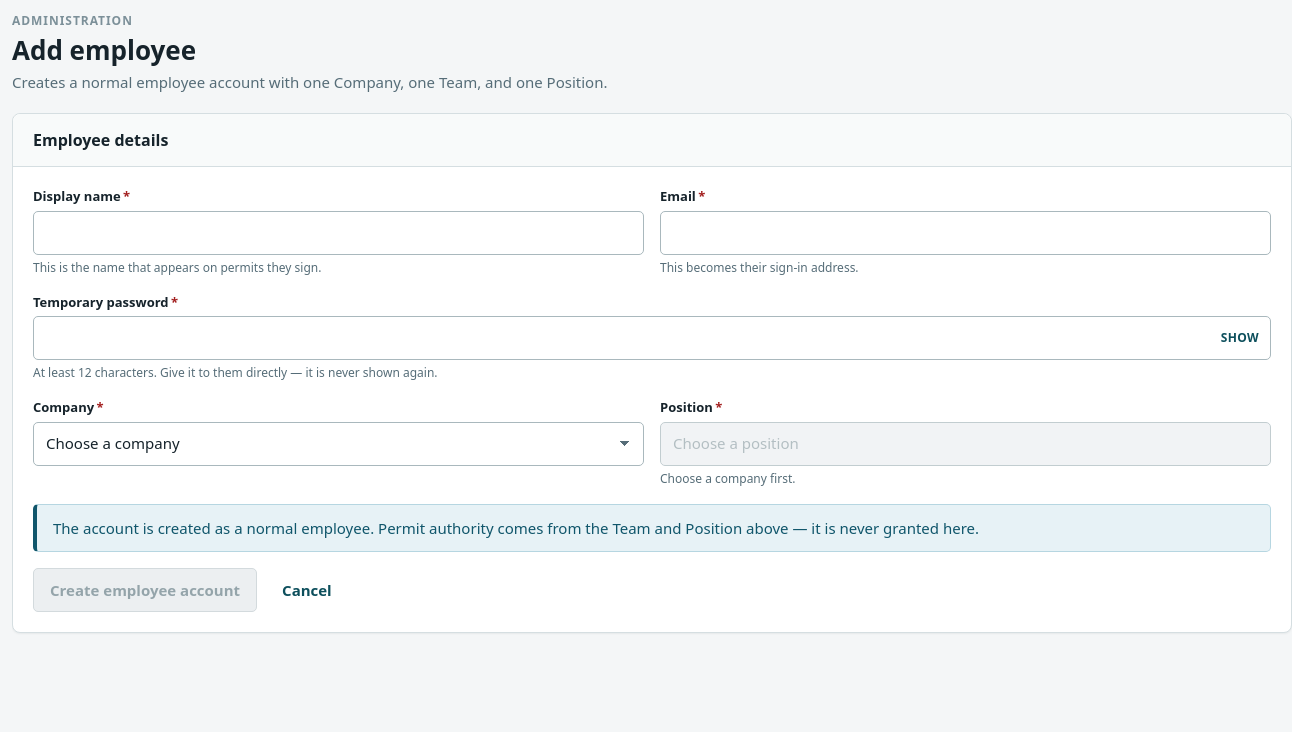
Test: the temporary password › is refused below the backend minimum, before anything is sent
In the field labelled "Display name*": (338, 232) [33,210,644,254], type "Ayesha Khan"
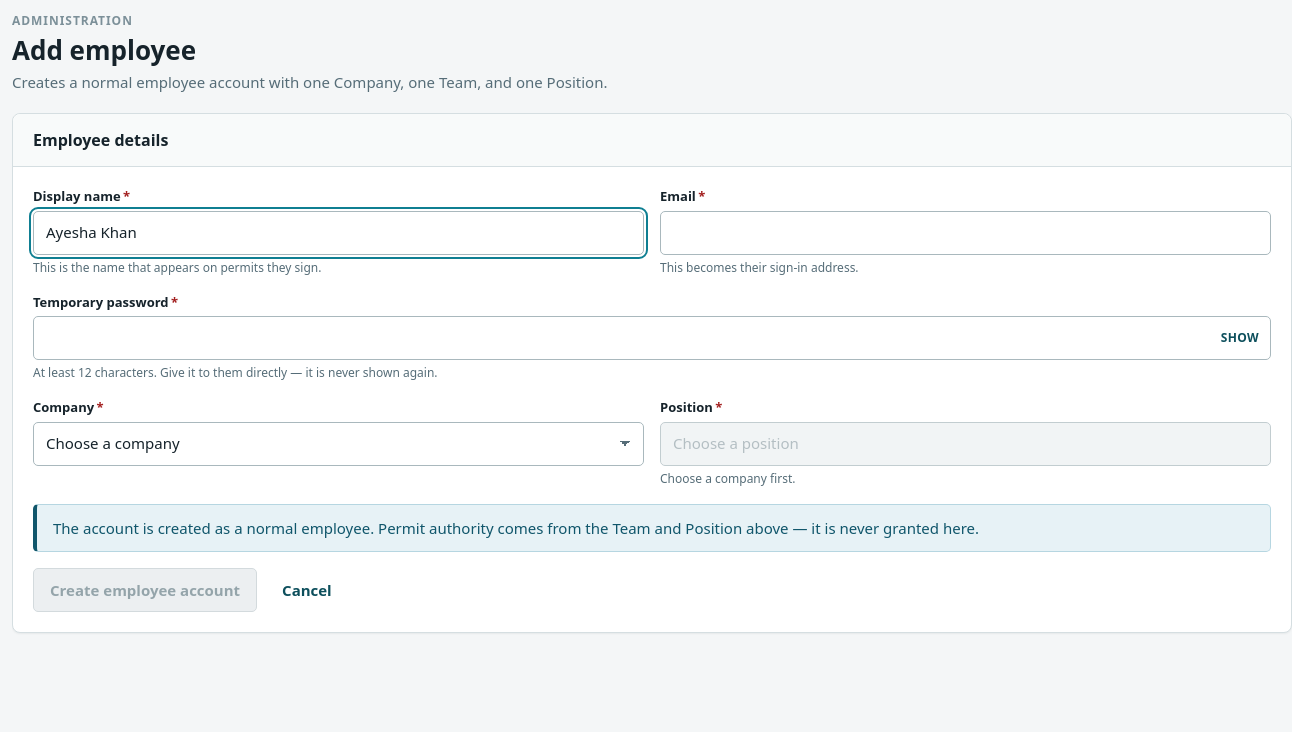
In the field labelled "Email*": (966, 232) [660,210,1271,254], type "ayesha@example.com"
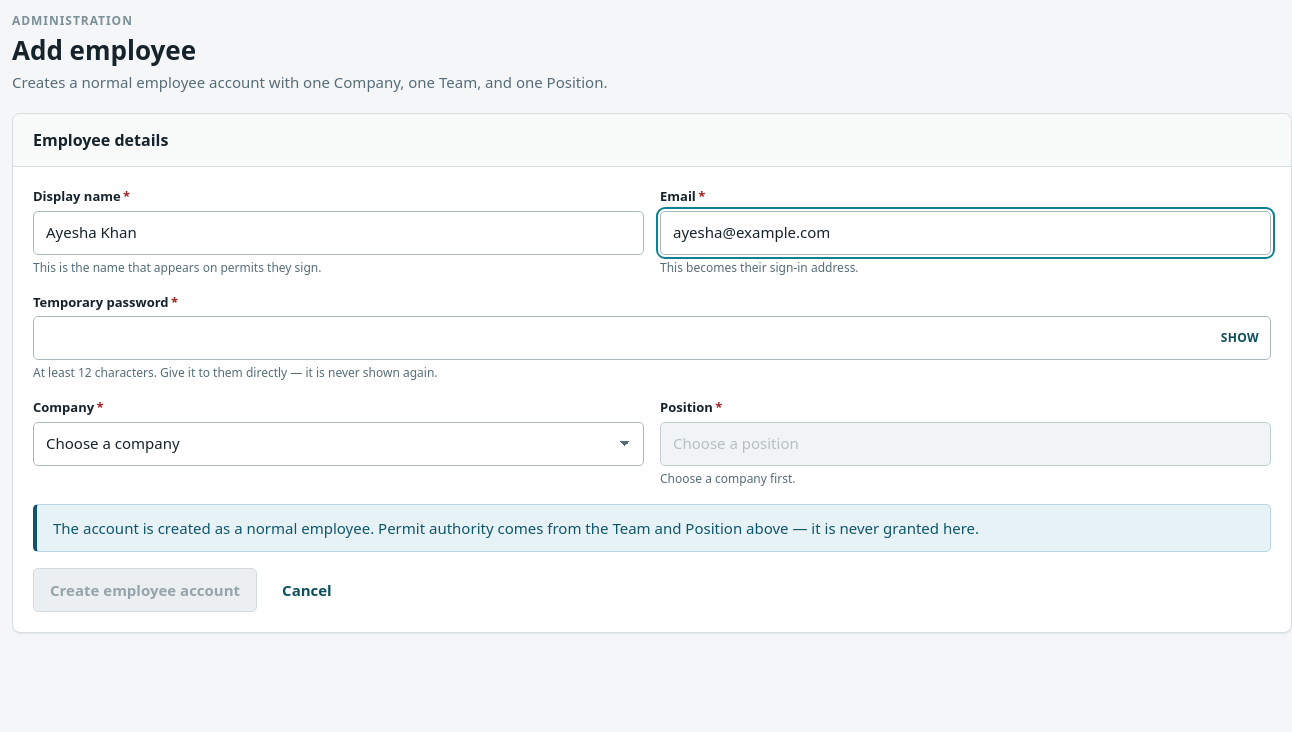
In the password field labelled "Temporary password*": (652, 338) [33,316,1271,360], type "short"
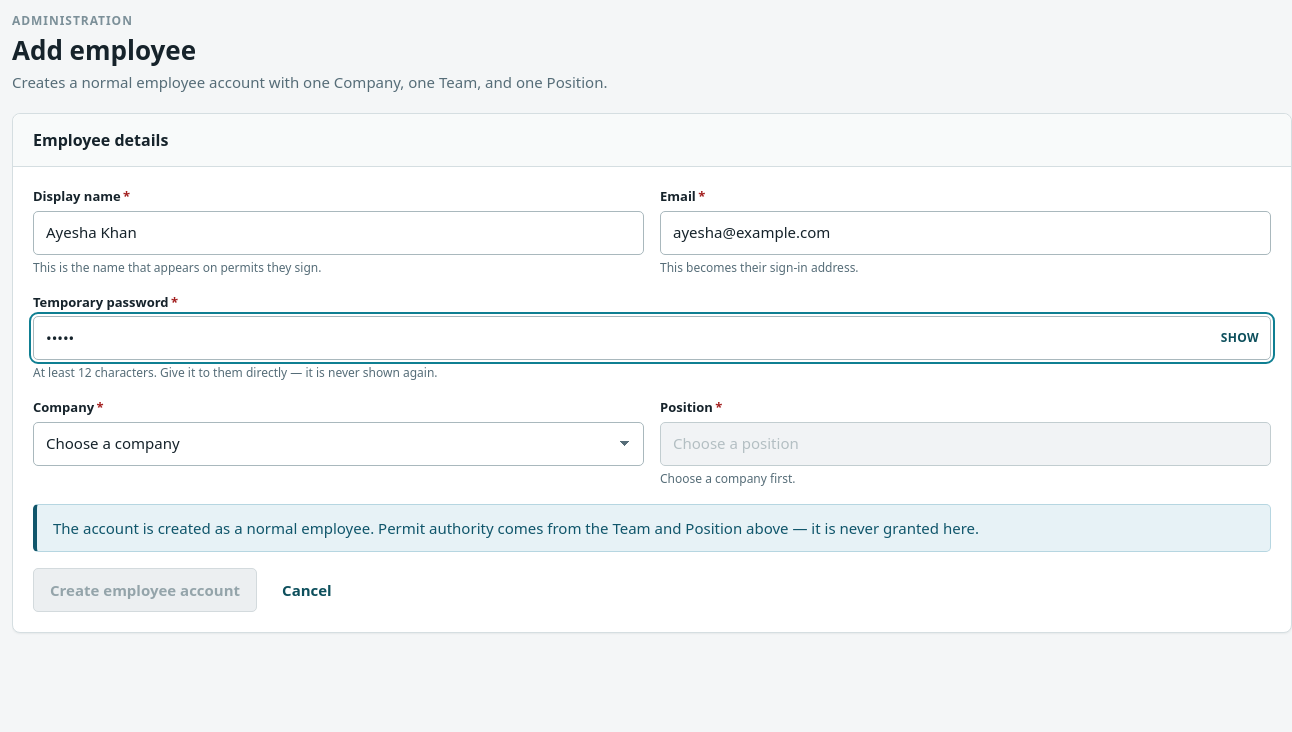
Select "ZPL" in the dropdown labelled "Company*": (338, 444) [33,422,644,466]
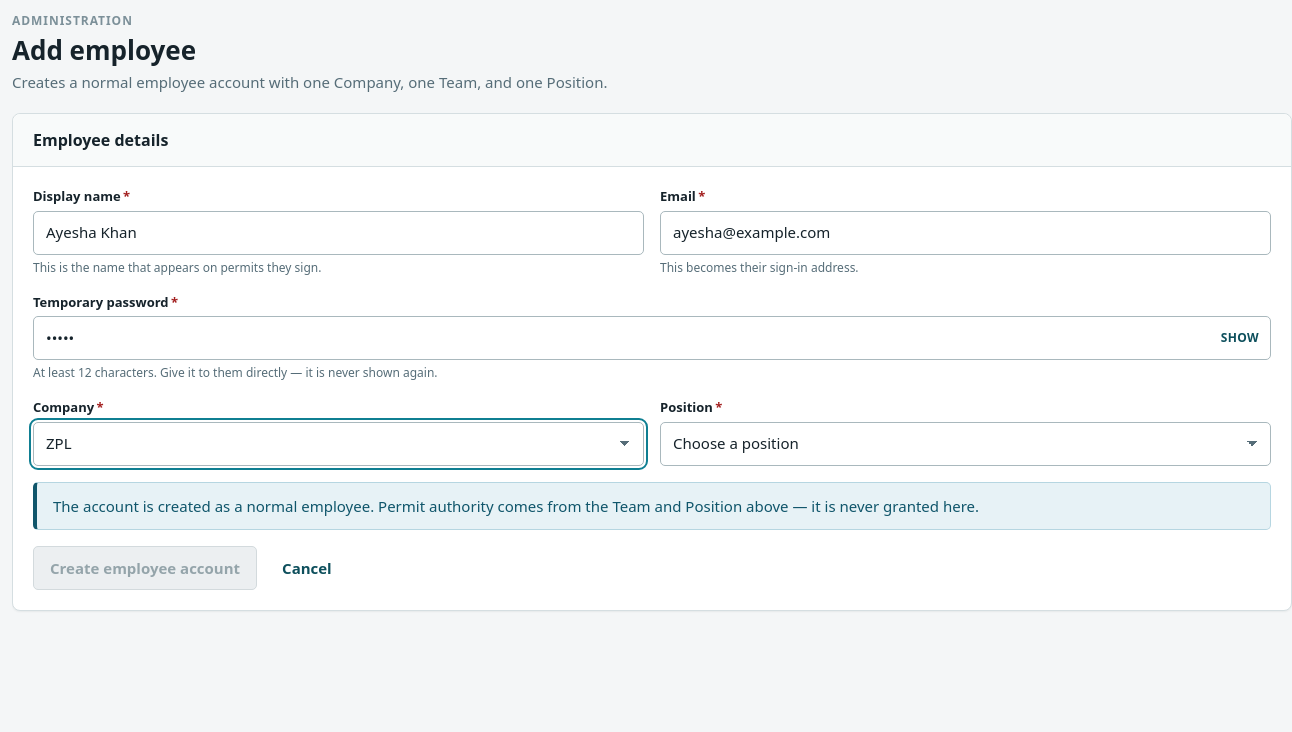
Select "Engineer" in the dropdown labelled "Position*": (966, 444) [660,422,1271,466]
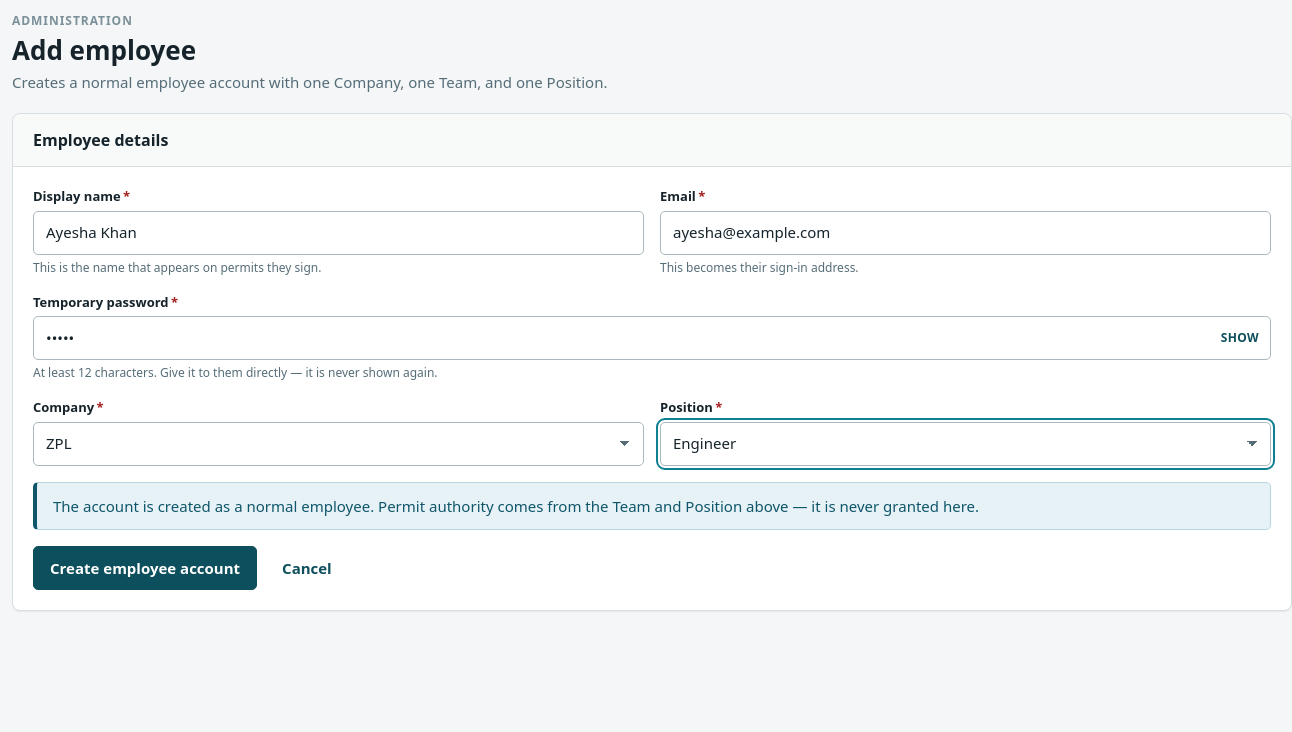
Click the button "Create employee account": (145, 568) [33,546,257,590]
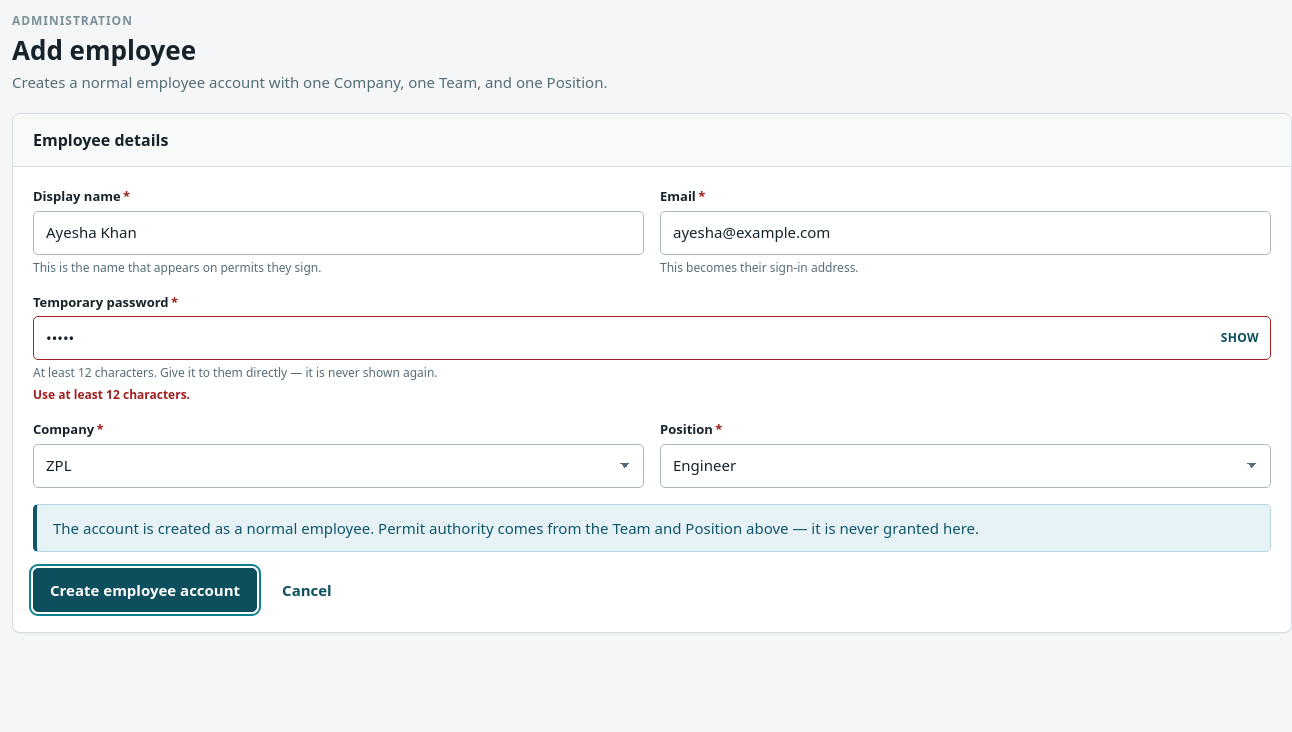
Expected: the text "Use at least 12 characters." is shown, [33,386,190,403]
